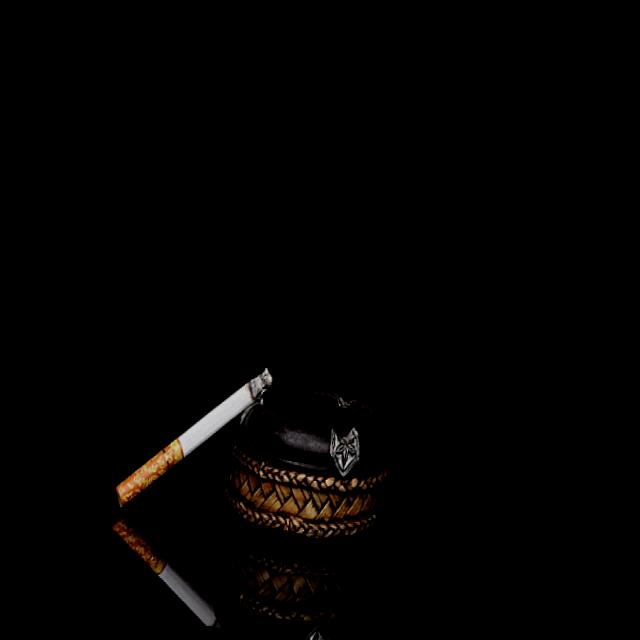smoke: (111, 341, 272, 533)
